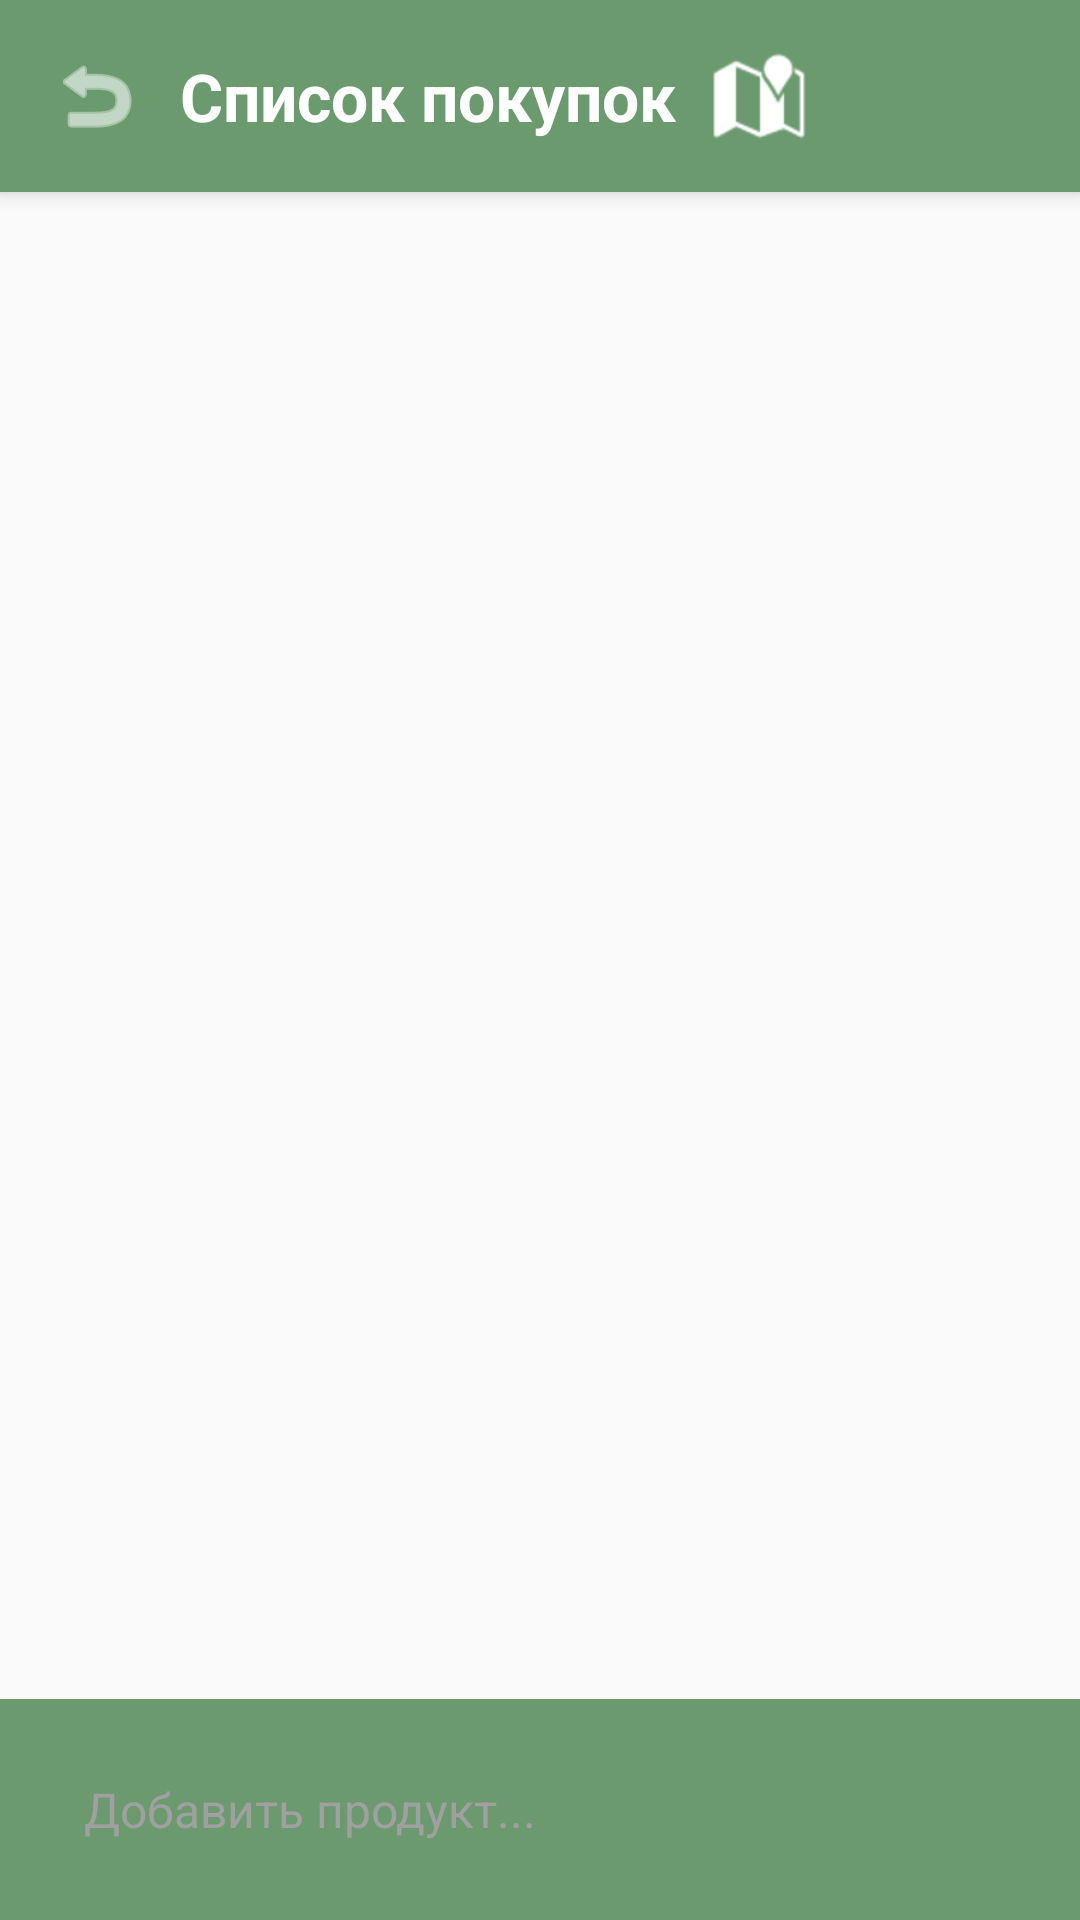

Icon click points for this 1080px×1920px phone screenshot, format point (x, y):
revert: point (97, 97)
Карта магазинов: point (759, 96)
